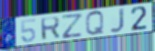2: (130, 6, 148, 33)
5: (20, 18, 37, 43)
J: (109, 7, 126, 34)
Q: (84, 10, 105, 37)
R: (40, 16, 62, 41)
Z: (61, 12, 84, 40)
